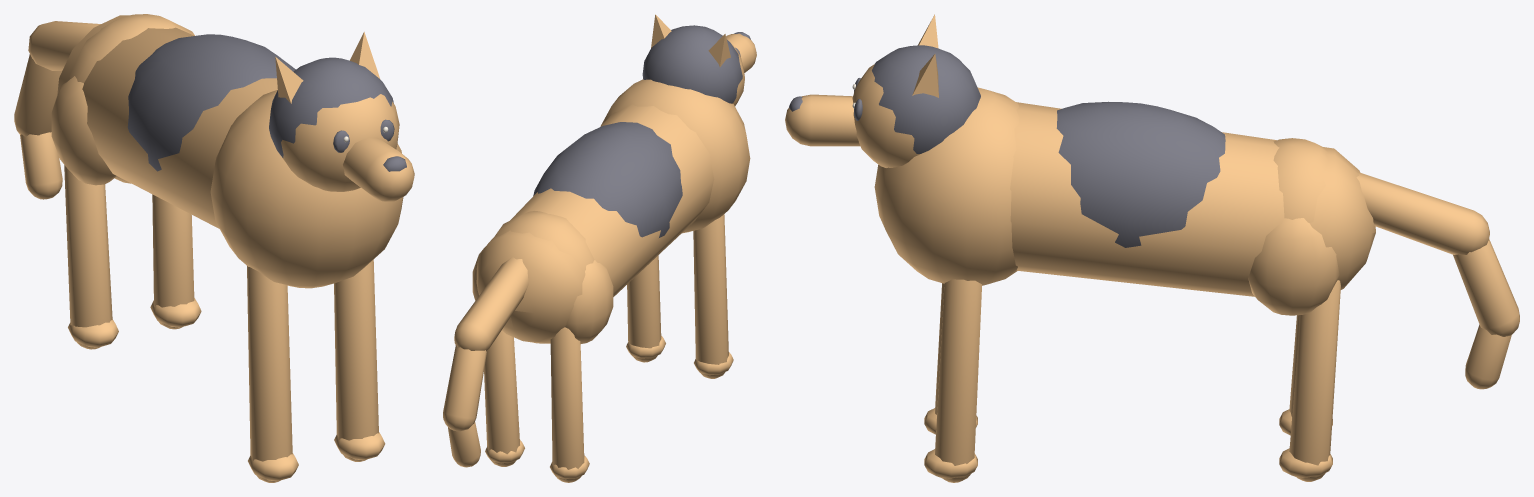
Rendered from companion-animals-and-pet-home-dog-shepherd-fd67aab8__20575.glb.
The picture shows the model from 3 angles, left to right: view 1: azimuth 30°, elevation 25°; view 2: azimuth 150°, elevation 25°; view 3: azimuth 270°, elevation 25°; orthographic projection. The views are drawn at different scales.
Visible parts, largest first — view 1: dog-shepherd; view 2: dog-shepherd; view 3: dog-shepherd.
Boxes of the visible parts, x1,y1,x2,y2 form: dog-shepherd: (14, 14, 414, 482); dog-shepherd: (443, 14, 756, 482); dog-shepherd: (785, 14, 1519, 482).
Bounding box in the file's own units: 0.299 × 0.7226 × 1.13.
